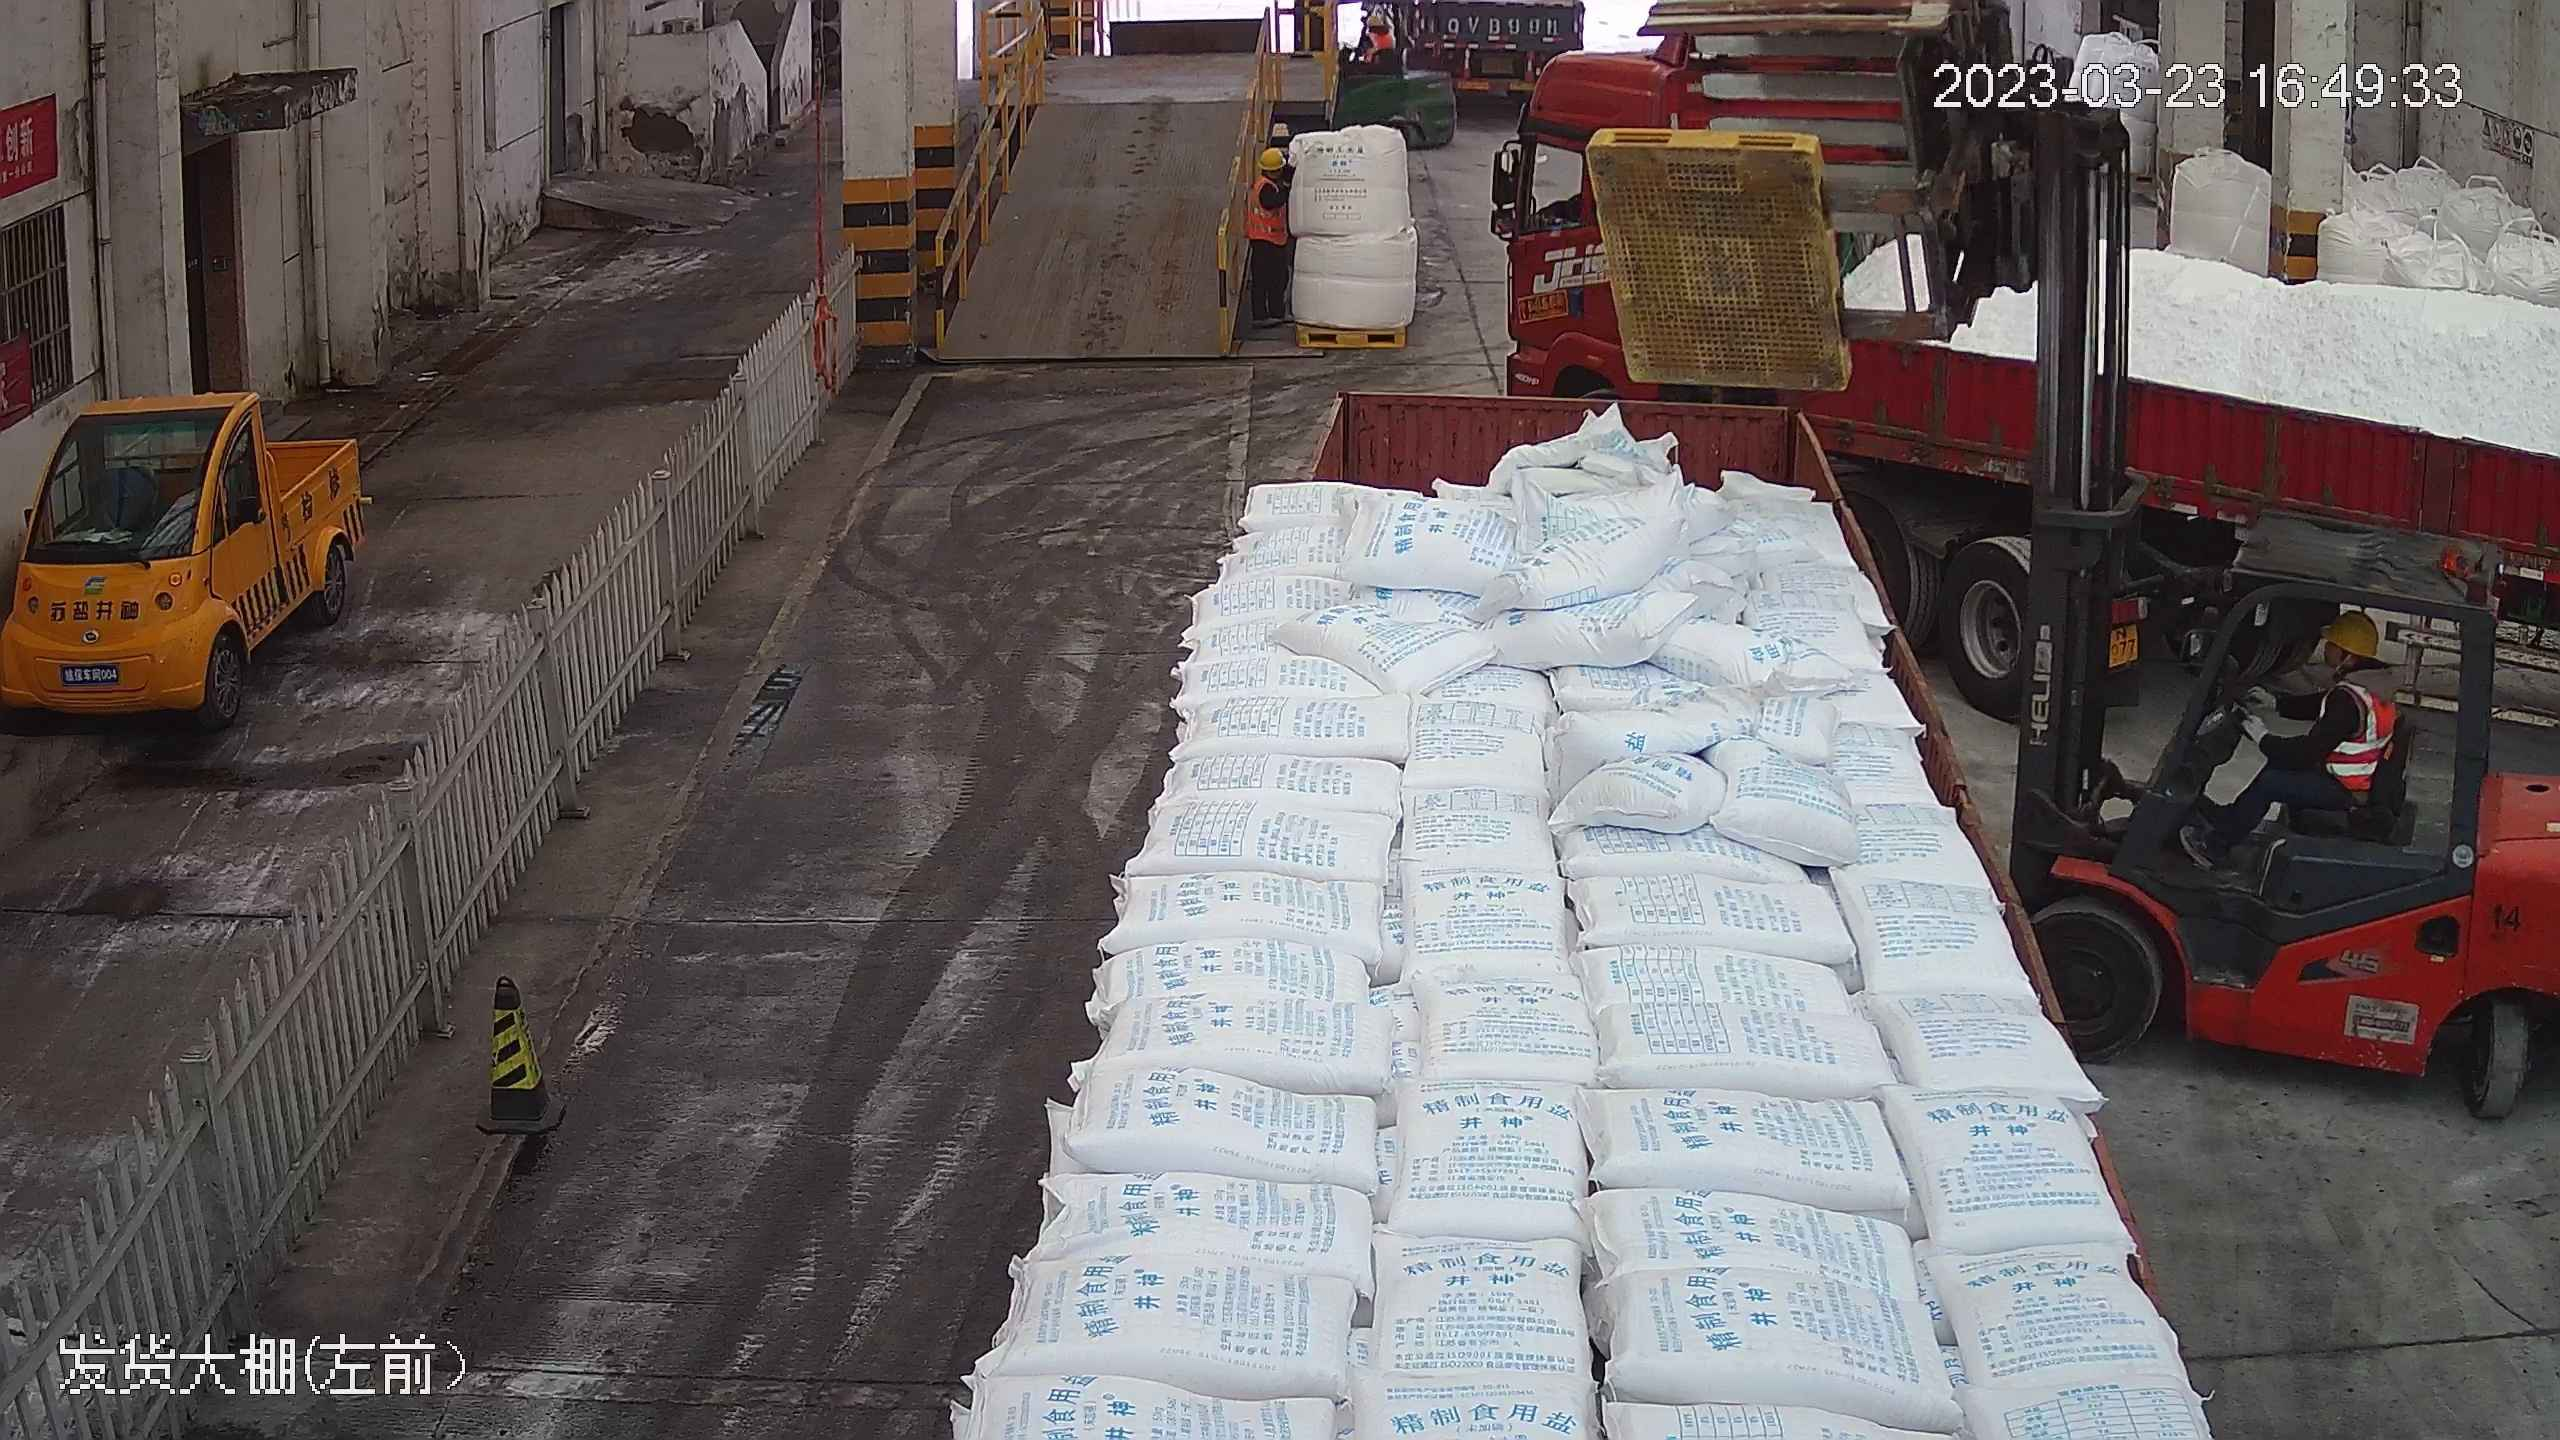head: (2293, 607, 2394, 731)
helmet: (2318, 607, 2384, 657), (1254, 143, 1288, 174)
people: (2182, 603, 2398, 872), (1238, 132, 1298, 336)
truck: (1046, 12, 2103, 1438)
